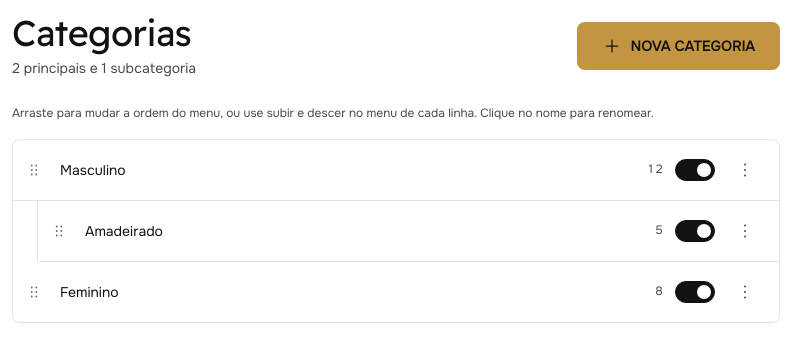
o primeiro pai não pode subir
Click the button named "Ações de Masculino": point(745, 170) [723,148,767,192]
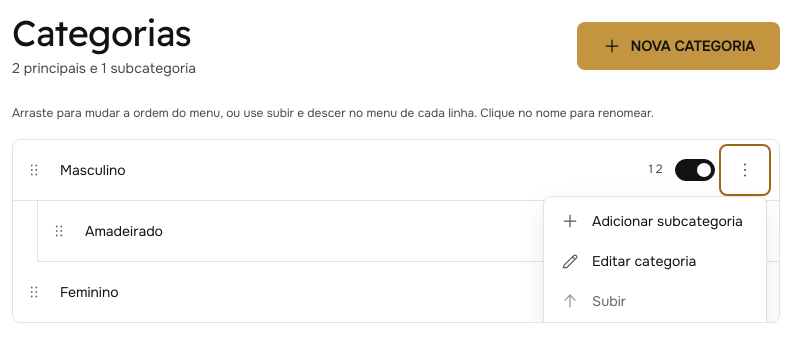
Check: the button "Subir" is disabled, box [548,281,762,321]
